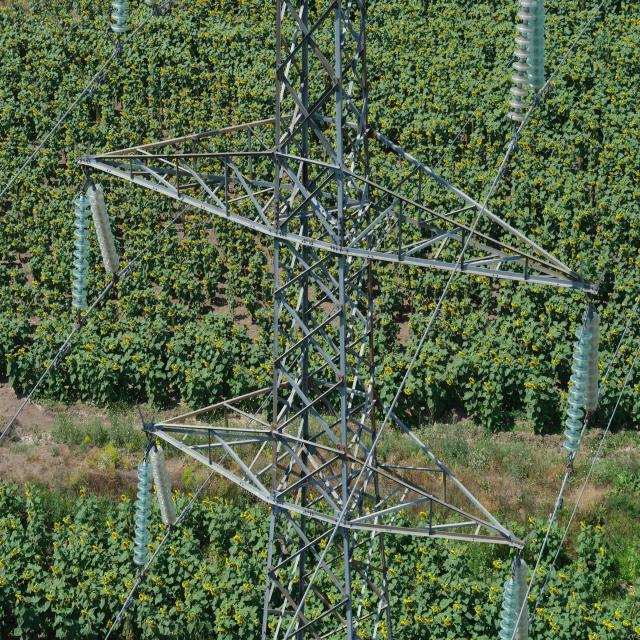direk: (257, 9, 394, 640)
